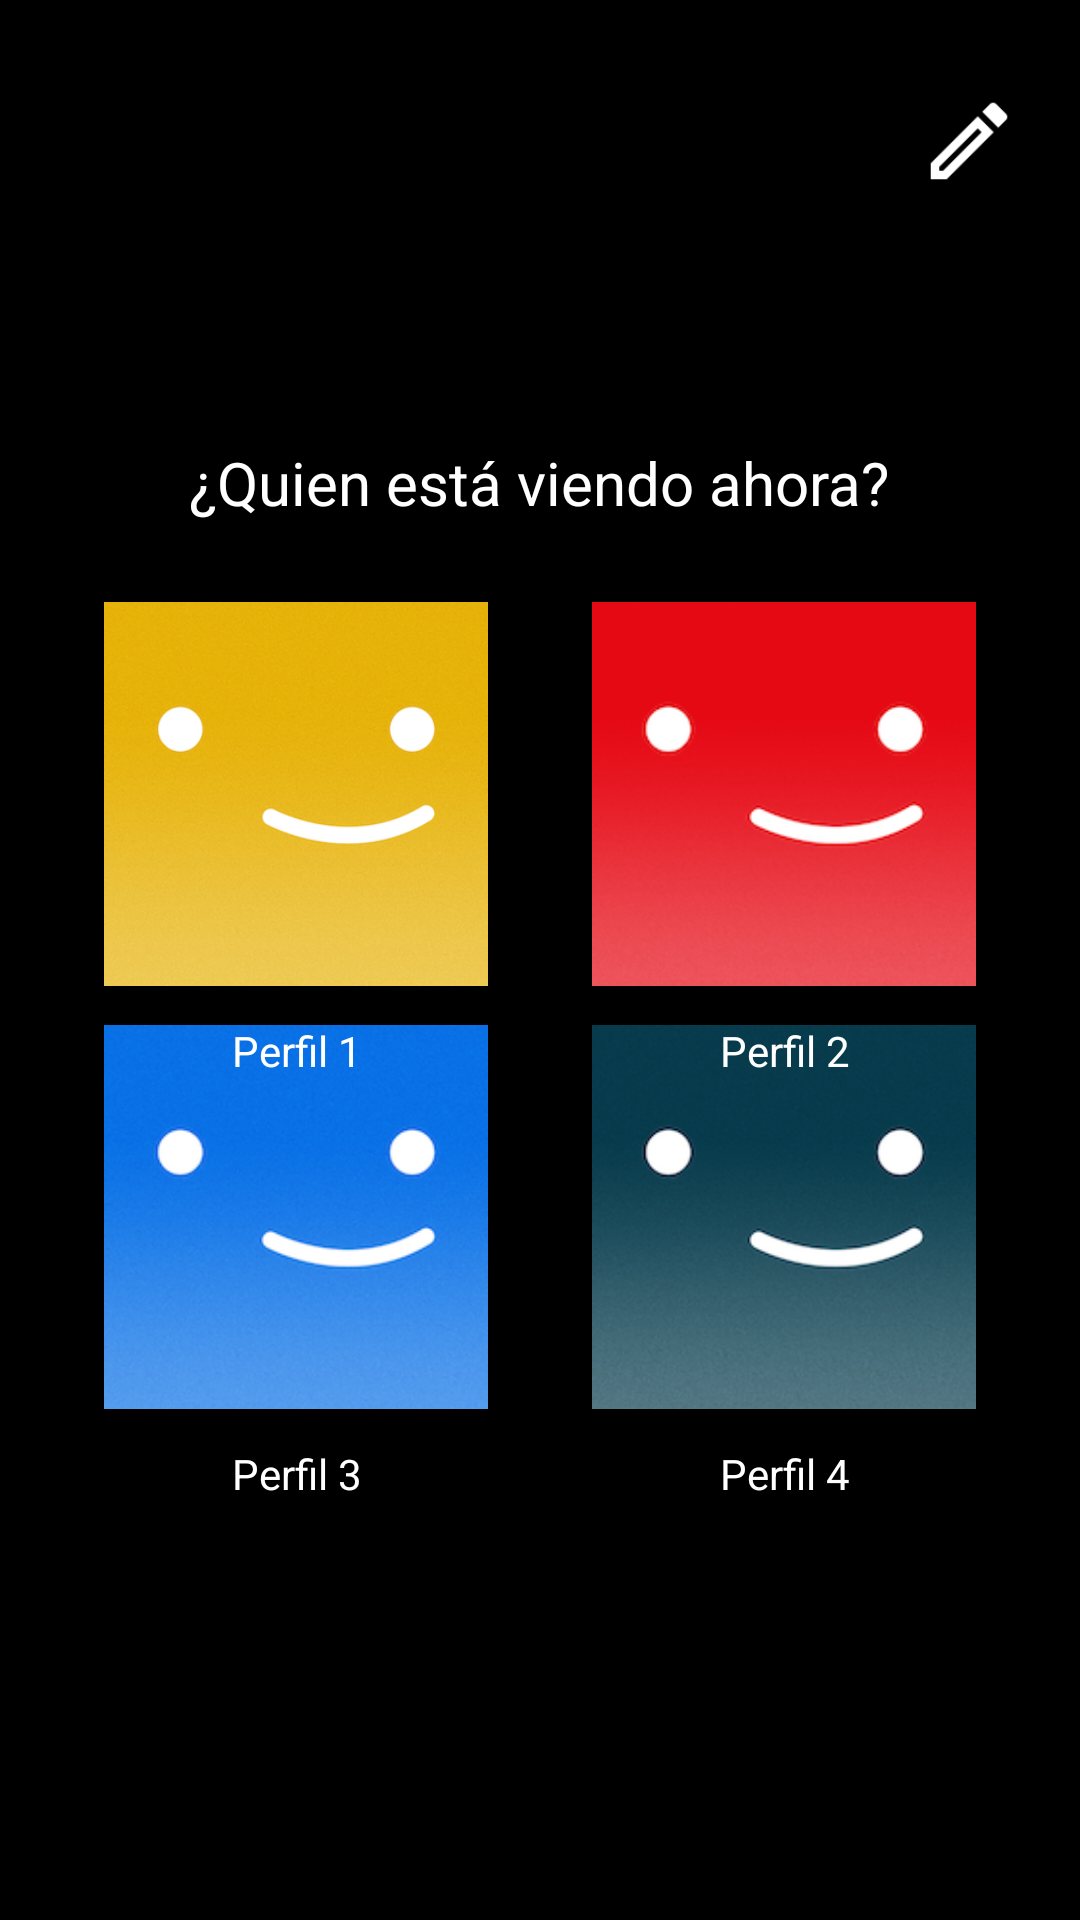

Named icons in this screenshot (1080px×1920px) and their centers, [x,y]:
edit: [969,141]
